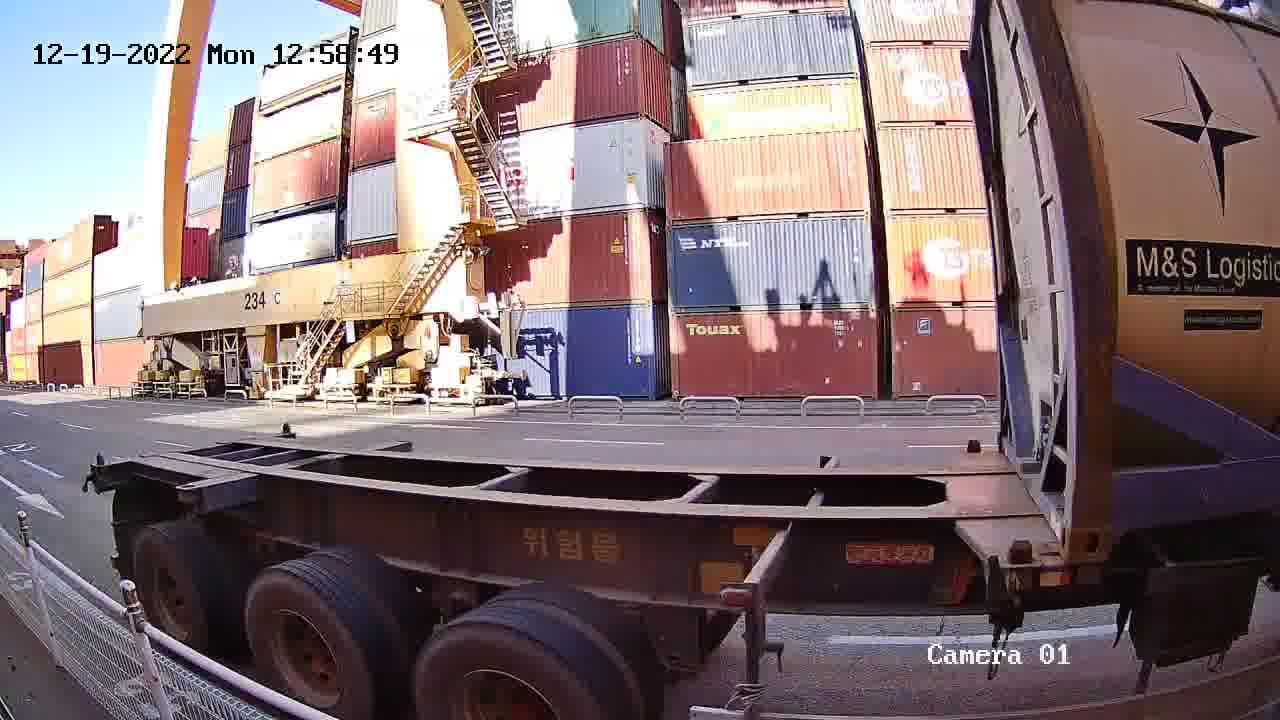Chassis: (951, 450, 1037, 565)
Cone: (999, 534, 1037, 618), (1070, 563, 1111, 593), (962, 437, 983, 458)
Hole_L: (1069, 493, 1148, 564)
Hole_R: (1043, 467, 1072, 561)
Tire: (243, 569, 368, 710), (418, 625, 606, 713), (133, 526, 218, 647)
